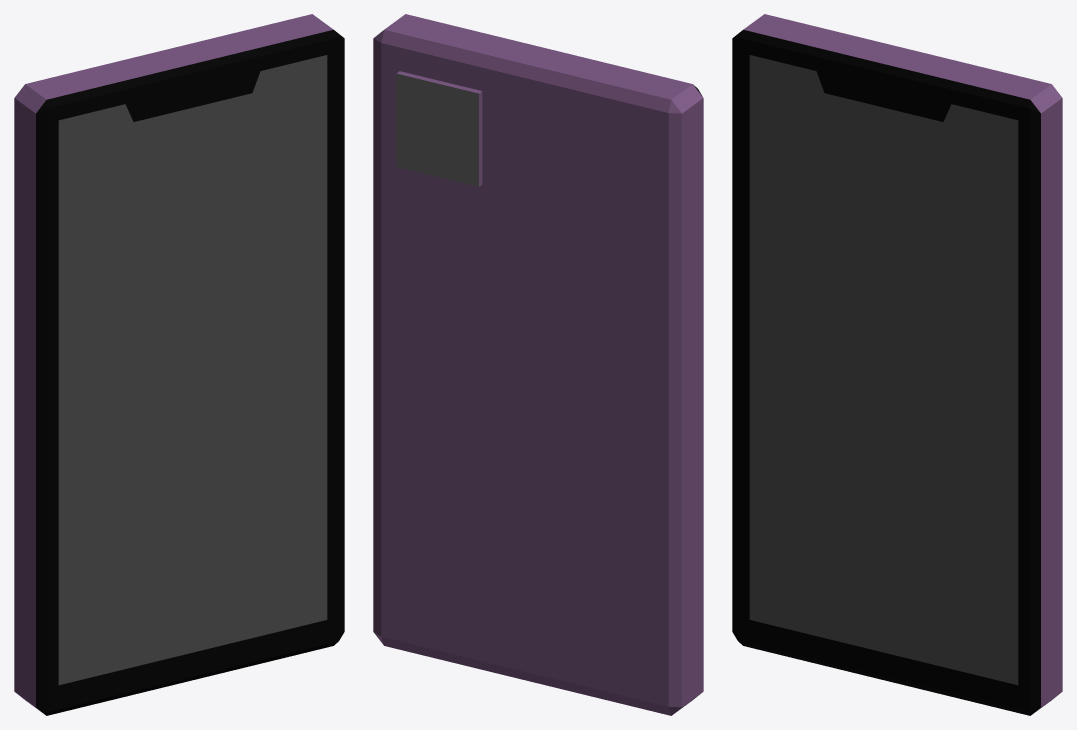
Rendered from smartphone.fbx.
3 renders of one model, left to right at view 1: azimuth 30°, elevation 25°; view 2: azimuth 150°, elevation 25°; view 3: azimuth 330°, elevation 25°, orthographic.
Visible parts, largest first — view 1: Cube; view 2: Cube; view 3: Cube.
Boxes of the visible parts, left/top/right/bottom form: Cube: left=14, top=14, right=344, bottom=715; Cube: left=373, top=14, right=703, bottom=715; Cube: left=732, top=14, right=1062, bottom=715.
Size of the model in its own units: 105 by 200 by 17.88.
